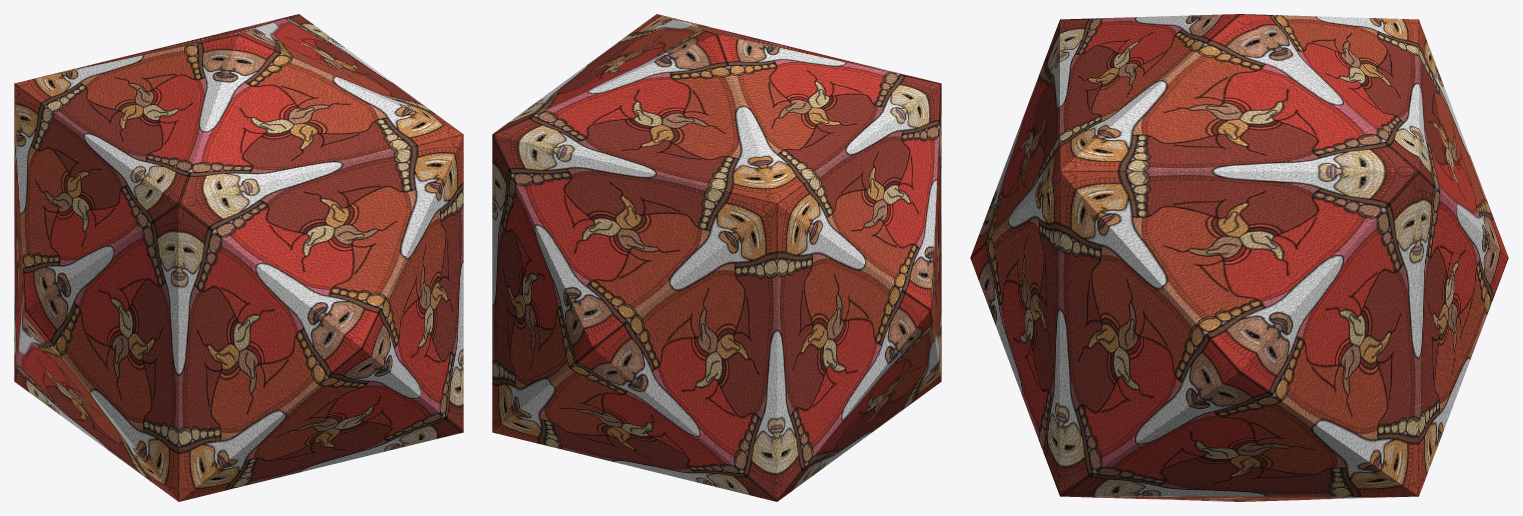
The model's file is TetrakisHexahedron.obj.
The picture shows the model from 3 angles, left to right: view 1: azimuth 30°, elevation 25°; view 2: azimuth 150°, elevation 25°; view 3: azimuth 270°, elevation 25°; orthographic projection. The views are drawn at different scales.
Bounding box in the file's own units: 3.18 × 3.18 × 3.18.
Materials: 1 (1 with a texture image).
